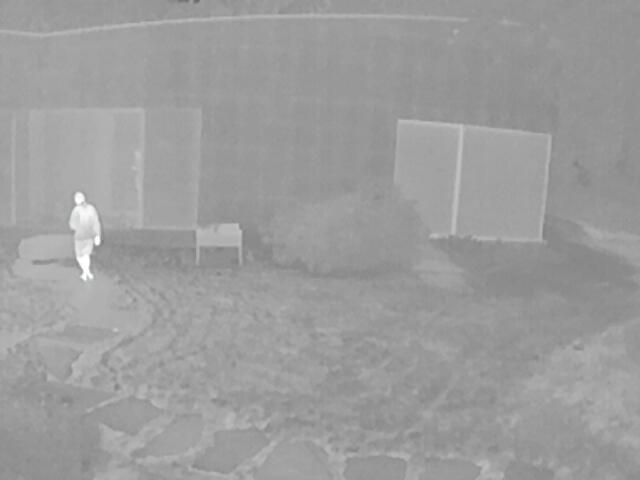person: (68, 191, 102, 283)
